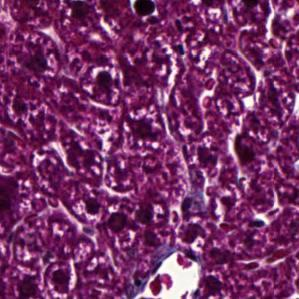inflammation: (60, 139, 110, 182), (88, 65, 123, 106), (43, 259, 81, 294), (228, 137, 258, 168)
